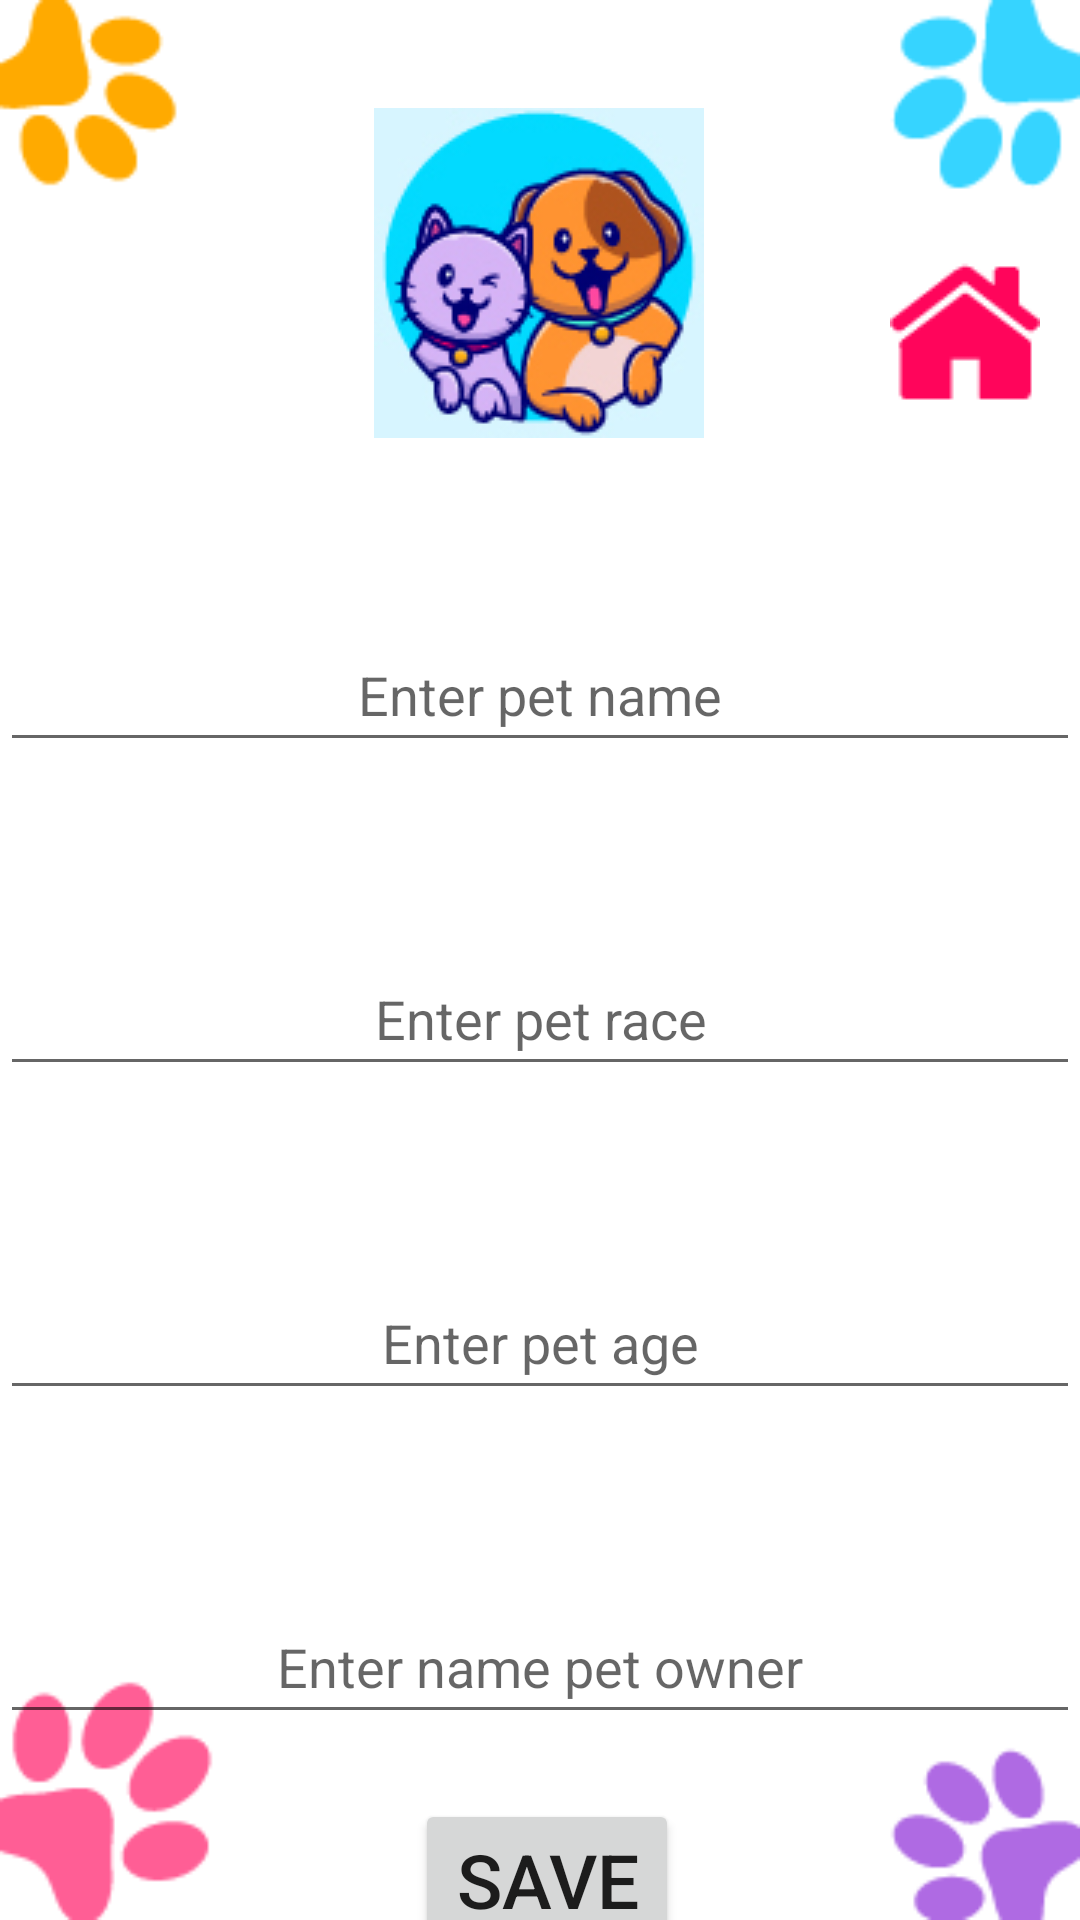

Where to tap for icons on this 1080 × 1920 app screen, as [x,y]:
pets: [539,273]
